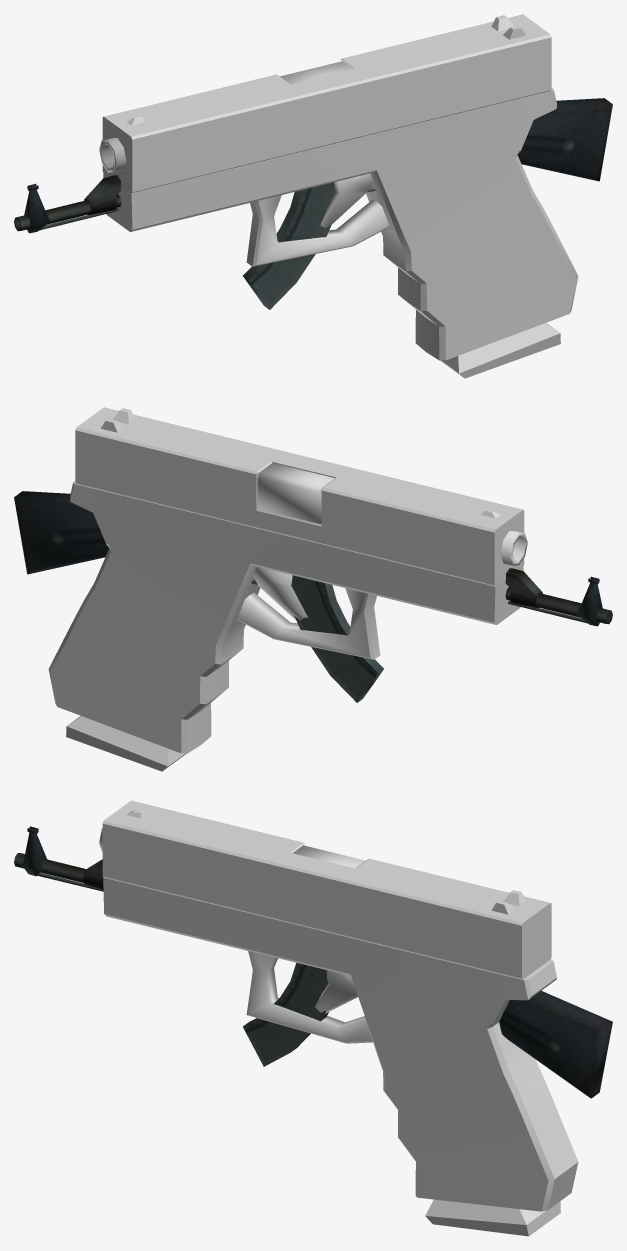
File: ak_glb.glb
3 views of the same model, one above another, from view 1: azimuth 30°, elevation 25°; view 2: azimuth 150°, elevation 25°; view 3: azimuth 330°, elevation 25° (orthographic).
Parts seen in each view (by area): view 1: Glock_Frame, Glock_Slide, Ak_Frame, AK_Mag, Glock_Mag, AK_Barrel, Glock_Barrel, Glock_Trigger, AK_Front_Sight; view 2: Glock_Frame, Glock_Slide, Ak_Frame, AK_Mag, Glock_Barrel, Glock_Mag, AK_Barrel, Glock_Trigger, AK_Front_Sight; view 3: Glock_Frame, Glock_Slide, Ak_Frame, AK_Mag, Glock_Mag, AK_Barrel, Glock_Trigger, Glock_Barrel, AK_Front_Sight.
Boxes of the visible parts, <box> form: Glock_Frame: <box>103,88,578,360</box>; Glock_Slide: <box>102,14,551,193</box>; Ak_Frame: <box>517,98,612,181</box>; AK_Mag: <box>243,182,335,309</box>; Glock_Mag: <box>440,323,560,378</box>; AK_Barrel: <box>14,175,121,231</box>; Glock_Barrel: <box>99,61,352,172</box>; Glock_Trigger: <box>320,173,373,228</box>; AK_Front_Sight: <box>24,183,50,233</box>; Glock_Frame: <box>48,481,523,753</box>; Glock_Slide: <box>75,407,524,586</box>; Ak_Frame: <box>14,491,109,574</box>; AK_Mag: <box>291,575,383,702</box>; Glock_Barrel: <box>257,463,527,565</box>; Glock_Mag: <box>66,716,186,771</box>; AK_Barrel: <box>505,568,612,624</box>; Glock_Trigger: <box>253,566,307,620</box>; AK_Front_Sight: <box>576,576,602,626</box>; Glock_Frame: <box>103,877,578,1211</box>; Glock_Slide: <box>102,800,551,979</box>; Ak_Frame: <box>499,991,612,1098</box>; AK_Mag: <box>243,963,328,1066</box>; Glock_Mag: <box>425,1199,560,1236</box>; AK_Barrel: <box>14,853,103,891</box>; Glock_Trigger: <box>315,970,357,1013</box>; Glock_Barrel: <box>99,828,365,868</box>; AK_Front_Sight: <box>22,826,47,876</box>.
Bounding box in the file's own units: 4.58 × 2.44 × 0.4558.
1 material, 1 textured.
